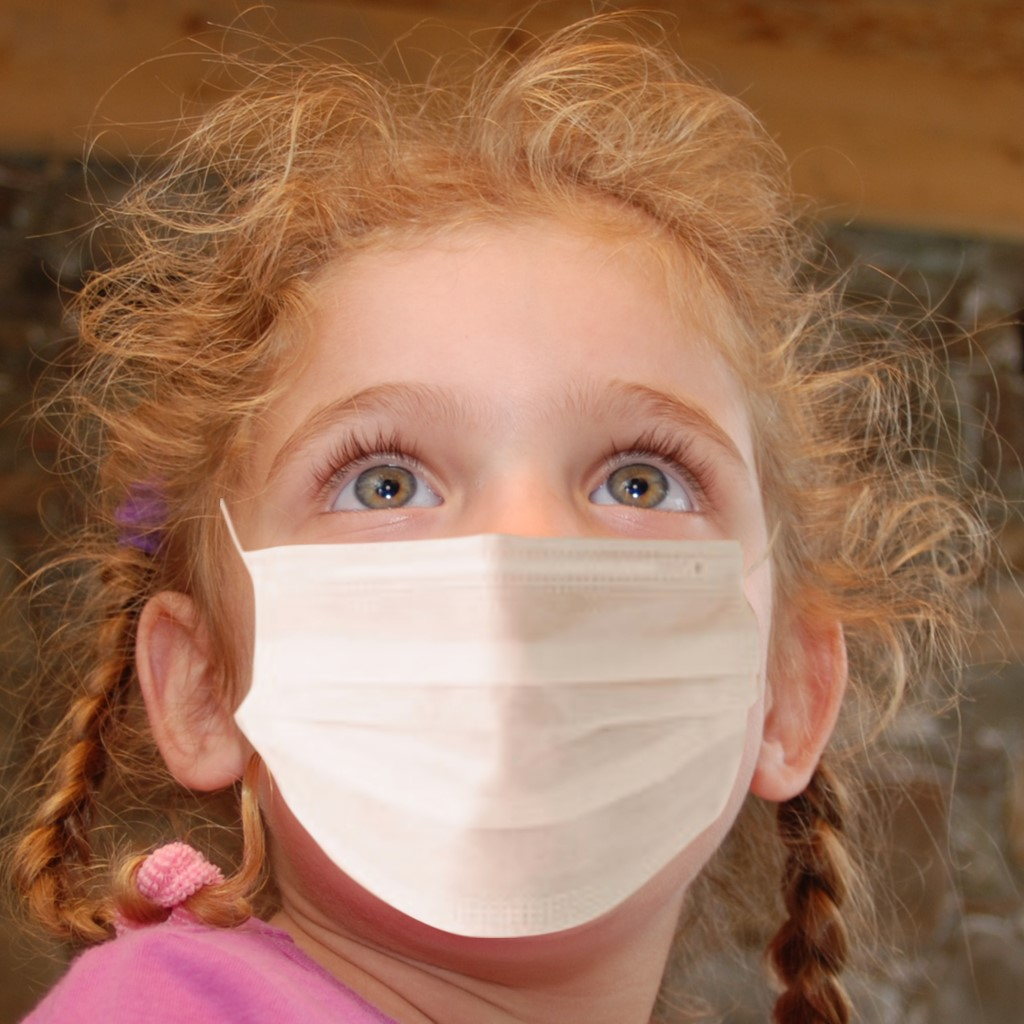con_mascara: (206, 157, 780, 942)
